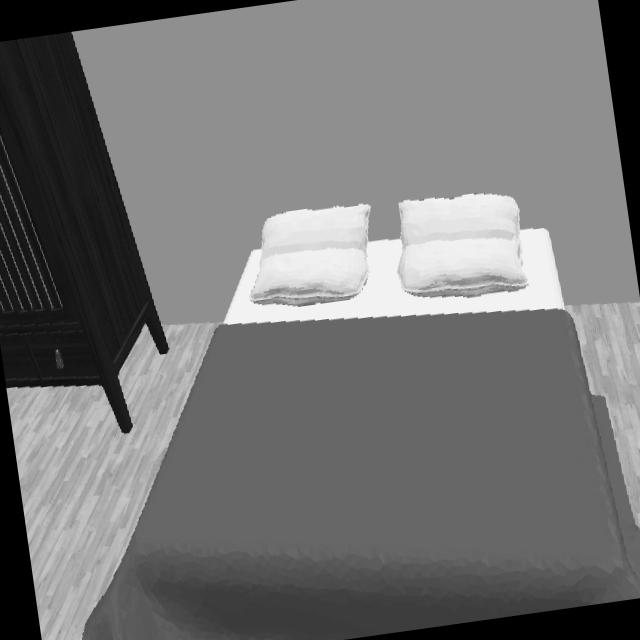bed: (81, 194, 640, 640)
pillow: (398, 194, 530, 300), (257, 204, 372, 308)
wardrobe: (0, 34, 169, 433)
